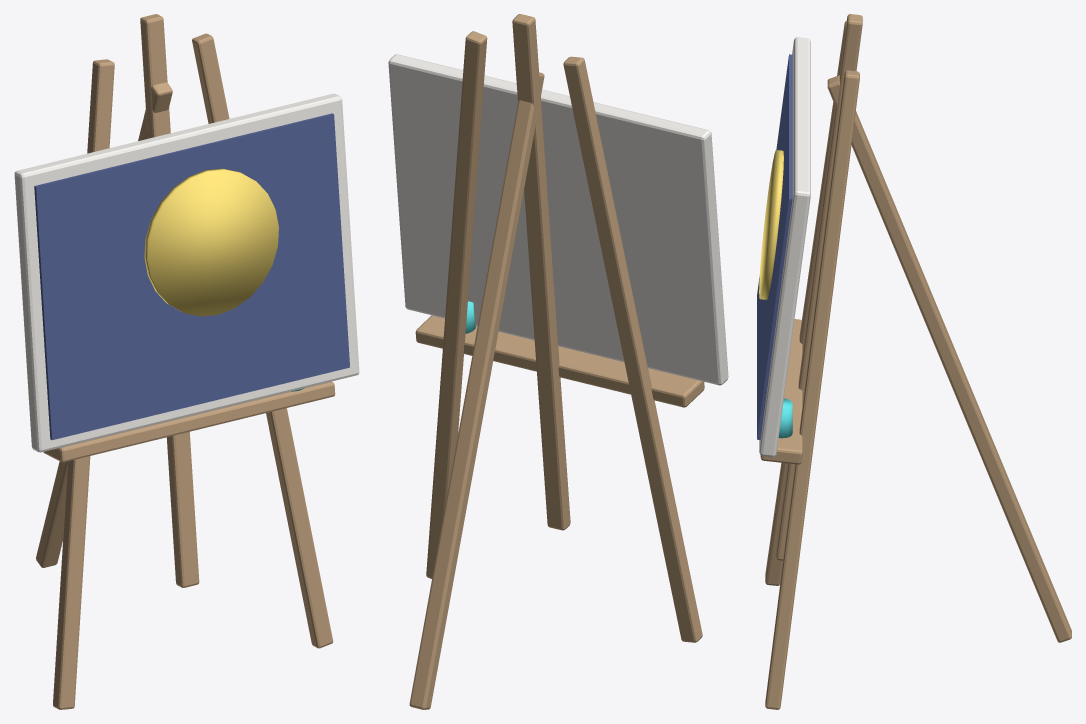
Rendered from artist_easel.glb.
3 views of the same model, side by side, from view 1: azimuth 30°, elevation 25°; view 2: azimuth 150°, elevation 25°; view 3: azimuth 270°, elevation 25° (orthographic).
Visible parts, largest first — view 1: LegLeft; view 2: LegLeft; view 3: LegLeft.
Boxes of the visible parts, x1=… form: LegLeft: x1=14, y1=14, x2=359, y2=709; LegLeft: x1=388, y1=14, x2=728, y2=709; LegLeft: x1=757, y1=14, x2=1071, y2=709.
Size of the model in its own units: 1.08 by 2.02 by 0.9186.
